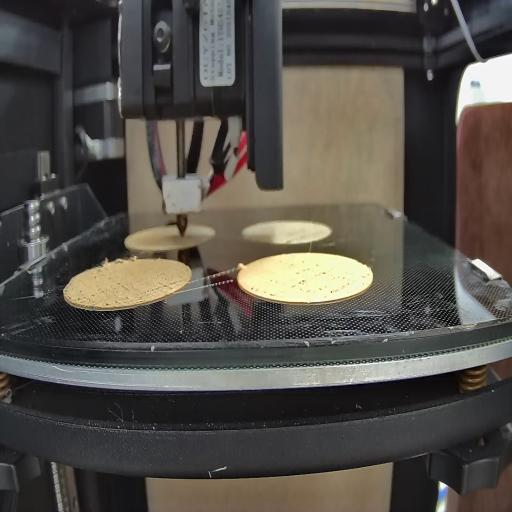under_extrusion: (288, 256, 353, 294), (78, 272, 138, 306), (147, 280, 182, 296), (250, 283, 278, 300)
